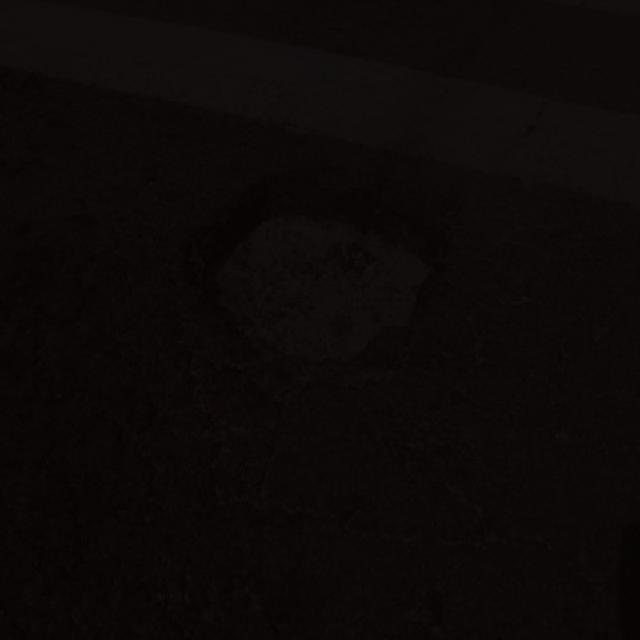Pothole: (173, 159, 443, 385)
